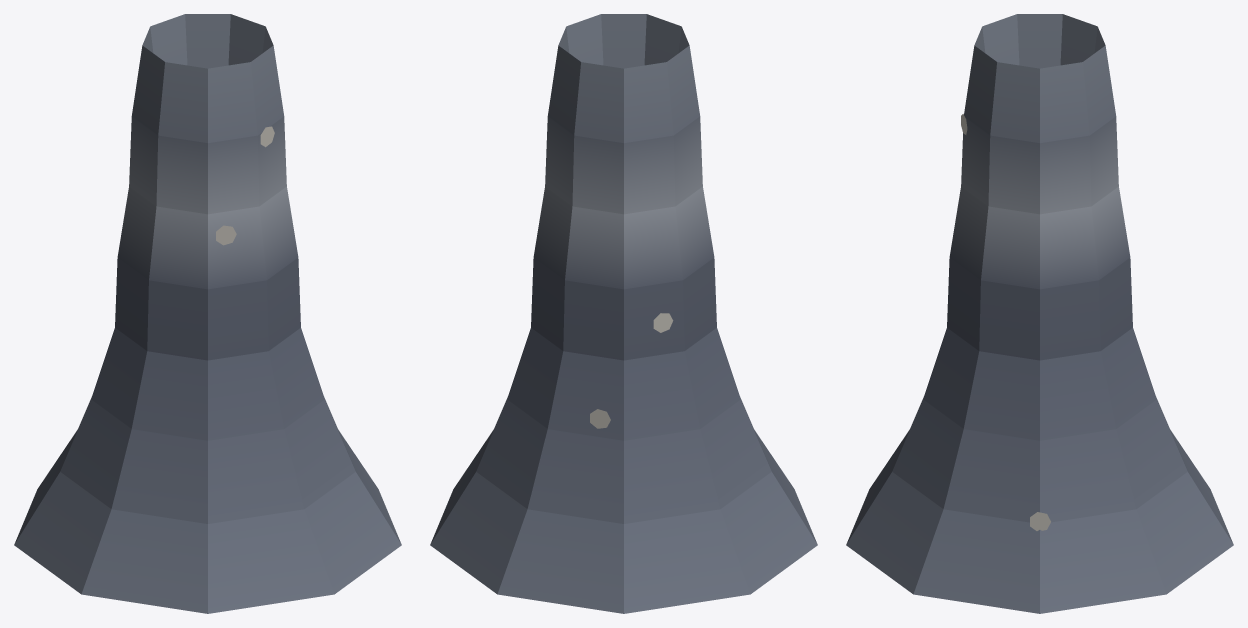
The model's file is buttress_v3.glb.
3 views of the same model, side by side, from view 1: azimuth 30°, elevation 25°; view 2: azimuth 150°, elevation 25°; view 3: azimuth 270°, elevation 25° (orthographic).
Visible parts, largest first — view 1: world; view 2: world; view 3: world.
Boxes of the visible parts, bbox=[...] form: world: bbox=[14, 14, 401, 613]; world: bbox=[430, 14, 817, 613]; world: bbox=[846, 14, 1233, 613].
Size of the model in its own units: 0.7061 by 1 by 0.717.
